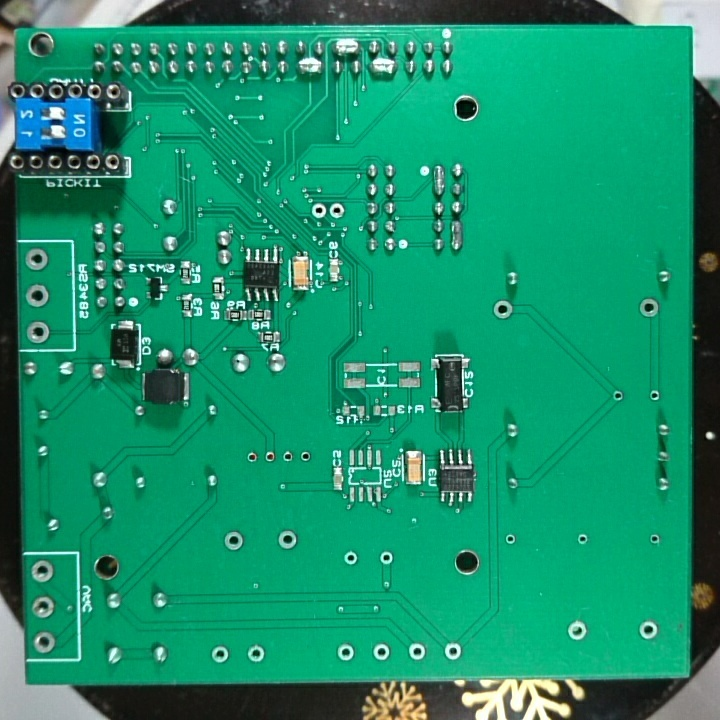F: (29, 558, 56, 586), (24, 284, 51, 310), (29, 594, 56, 620), (25, 320, 51, 346), (31, 629, 57, 655), (634, 618, 661, 643), (23, 247, 51, 271), (637, 295, 661, 322), (564, 618, 588, 644), (334, 642, 359, 666), (491, 298, 514, 323), (277, 527, 299, 553), (222, 529, 245, 553), (371, 640, 391, 665), (441, 640, 463, 662), (208, 643, 229, 666), (405, 640, 427, 661), (245, 643, 267, 663), (608, 386, 628, 406), (243, 447, 262, 468), (341, 547, 359, 569), (279, 447, 297, 469), (328, 200, 346, 222), (309, 201, 328, 220), (298, 446, 313, 470), (377, 548, 394, 568), (646, 531, 662, 551), (263, 447, 279, 467), (575, 530, 589, 549), (502, 531, 517, 548), (647, 386, 661, 403)
P: (367, 56, 399, 79), (331, 36, 362, 57), (294, 55, 325, 76), (431, 163, 448, 198), (448, 218, 465, 252)
